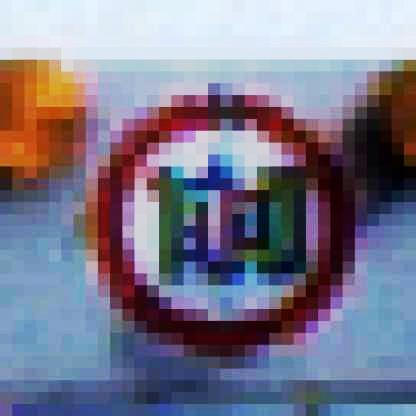Speed Limit -100-: (84, 83, 356, 354)
